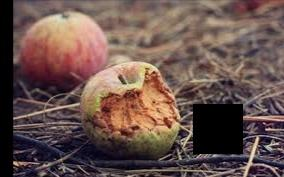rotten apple: (80, 60, 191, 160)
